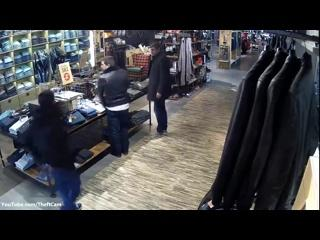Normal: (199, 44, 319, 208), (28, 90, 83, 209), (96, 56, 131, 158), (145, 42, 172, 136)
